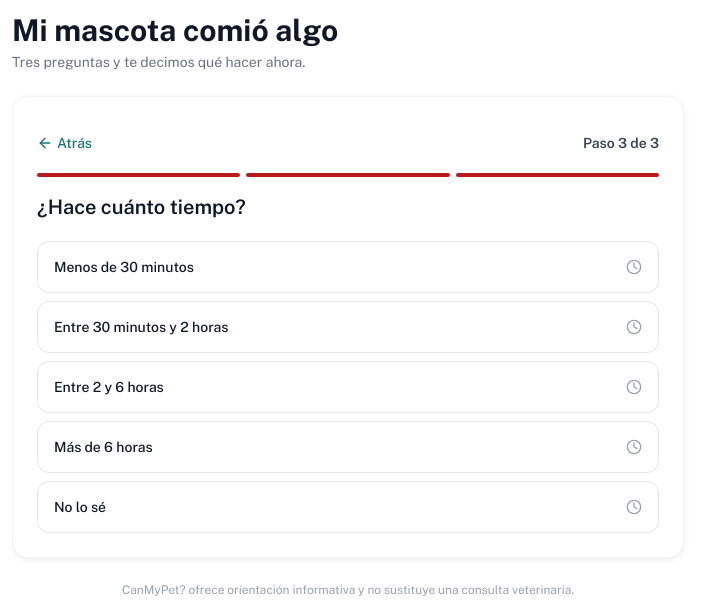
Scenario: EmergencyFlowPage › does not show an emergency guide when the food is safe
The width and height of the screenshot is (701, 613).
Click the button "Menos de 30 minutos": (124, 267) [37,241,659,293]
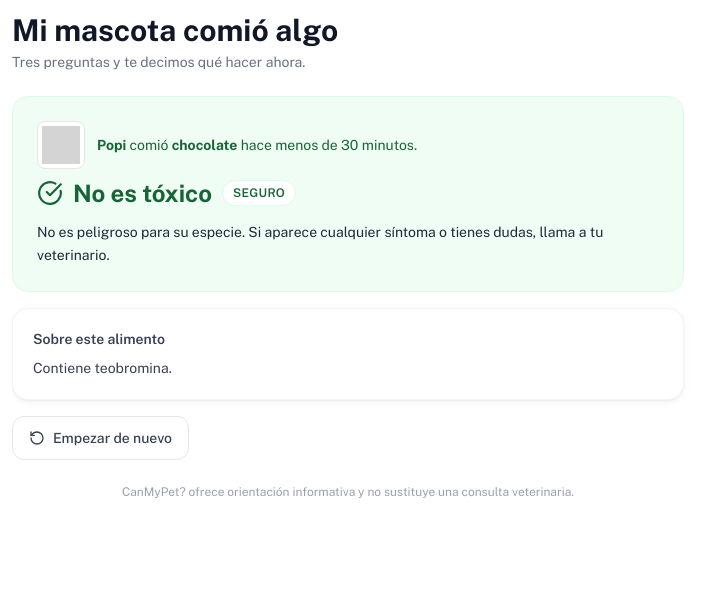
Now the heading "No es tóxico" is shown, box [73,177,212,209]
